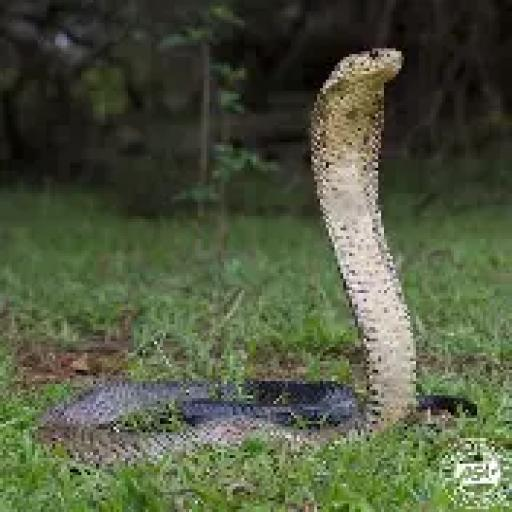snake: (38, 49, 477, 463)
